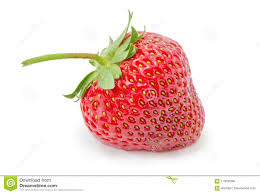Fresa: (75, 26, 211, 156)
